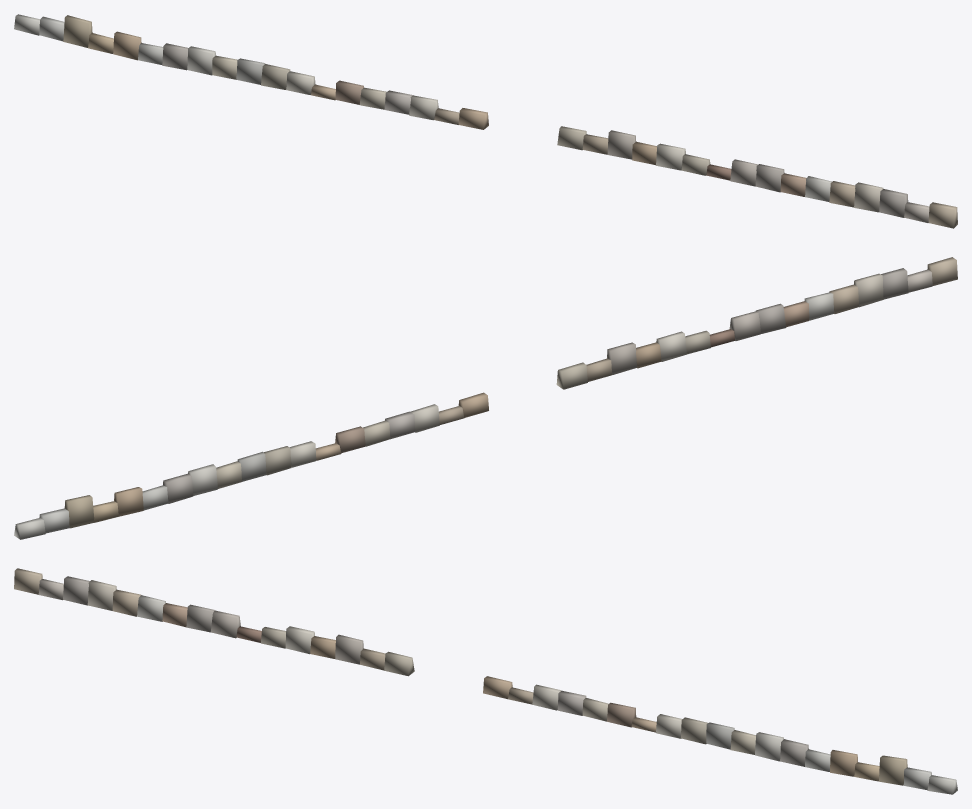
File: farm_-5_13_far.glb
3 renders of one model, top to bottom at view 1: azimuth 90°, elevation 25°; view 2: azimuth 150°, elevation 25°; view 3: azimuth 270°, elevation 25°, orthographic. The views are drawn at different scales.
Parts seen in each view (by area): view 1: geometry_0; view 2: geometry_0; view 3: geometry_0.
Part boxes in pixels (x1,y1,x2,y2): geometry_0: [14, 14, 957, 228]; geometry_0: [14, 257, 957, 539]; geometry_0: [14, 568, 957, 794].
Bounding box in the file's own units: 28.13 × 1.9 × 54.32.
